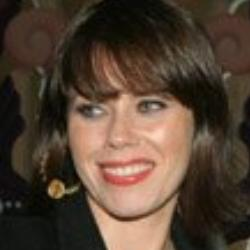face: (34, 1, 235, 230)
